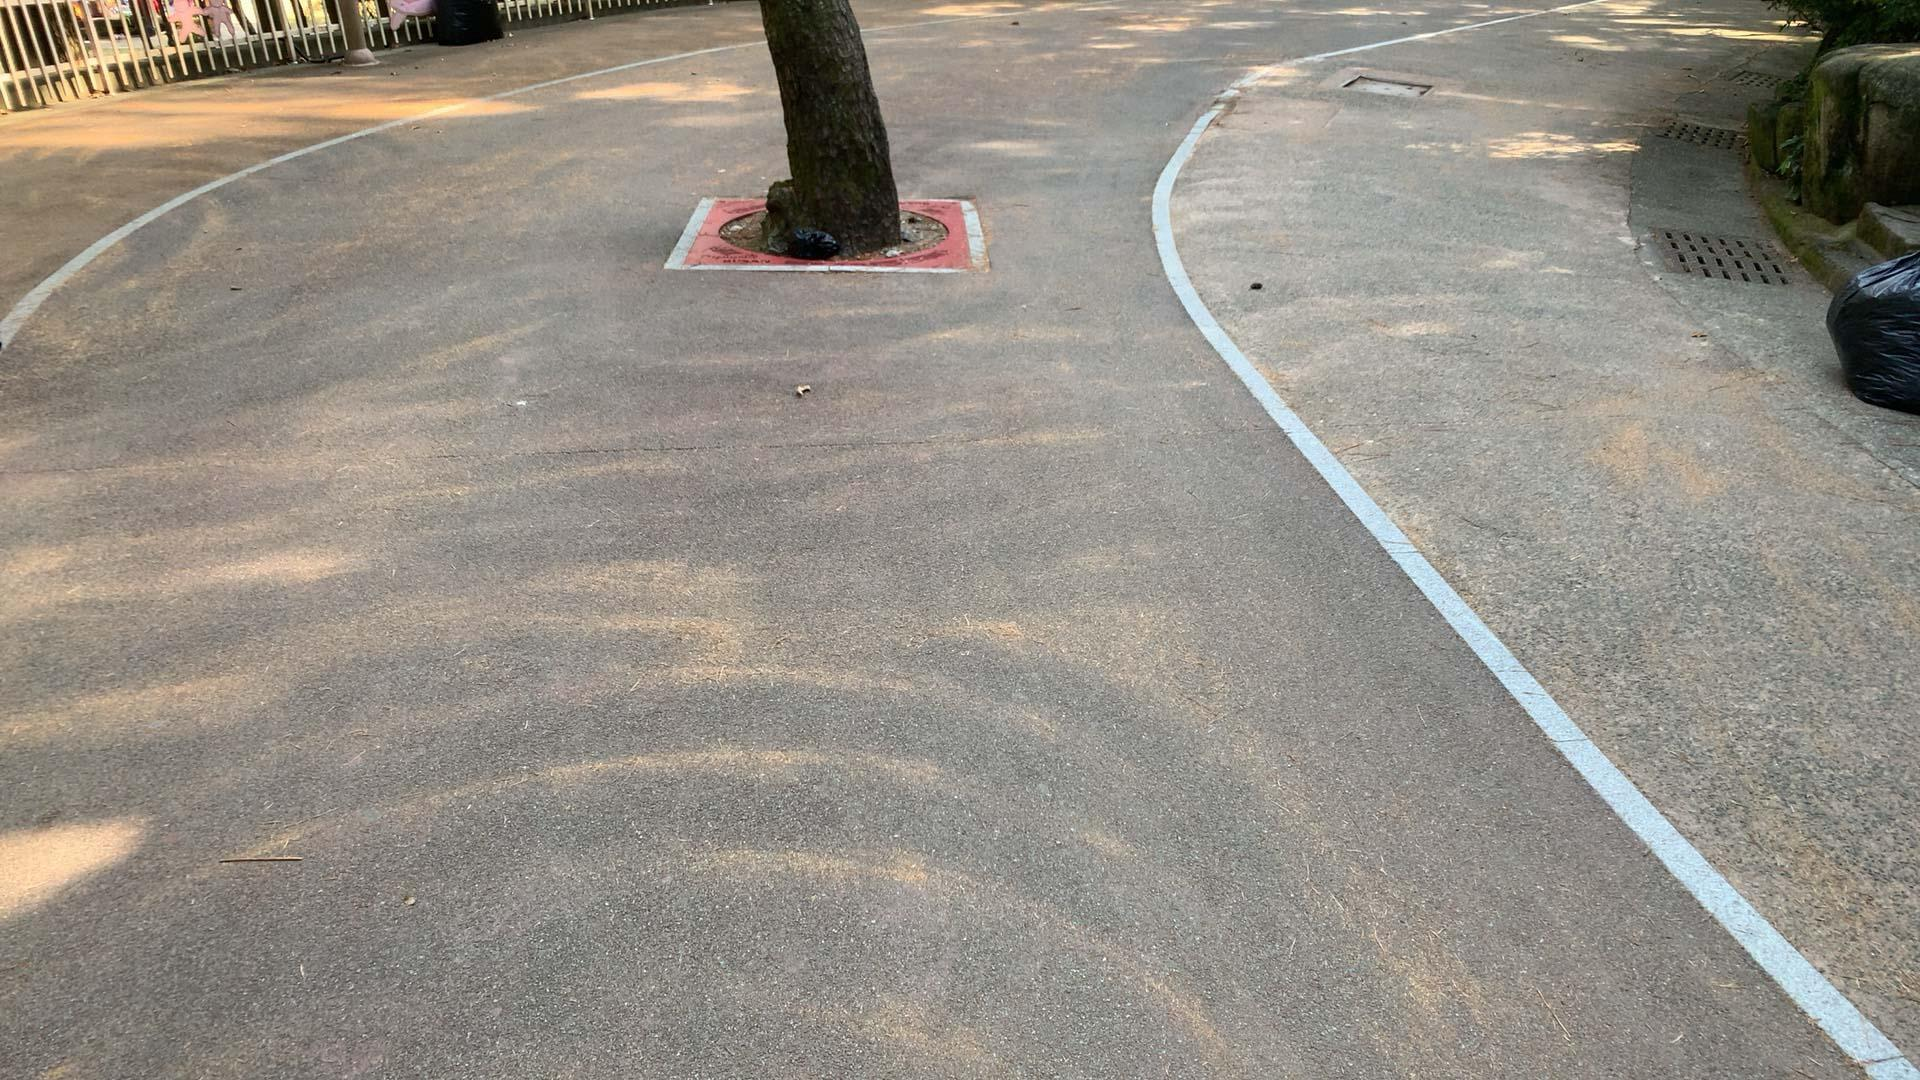black_bag: (1825, 220, 1919, 419), (786, 225, 839, 260)
